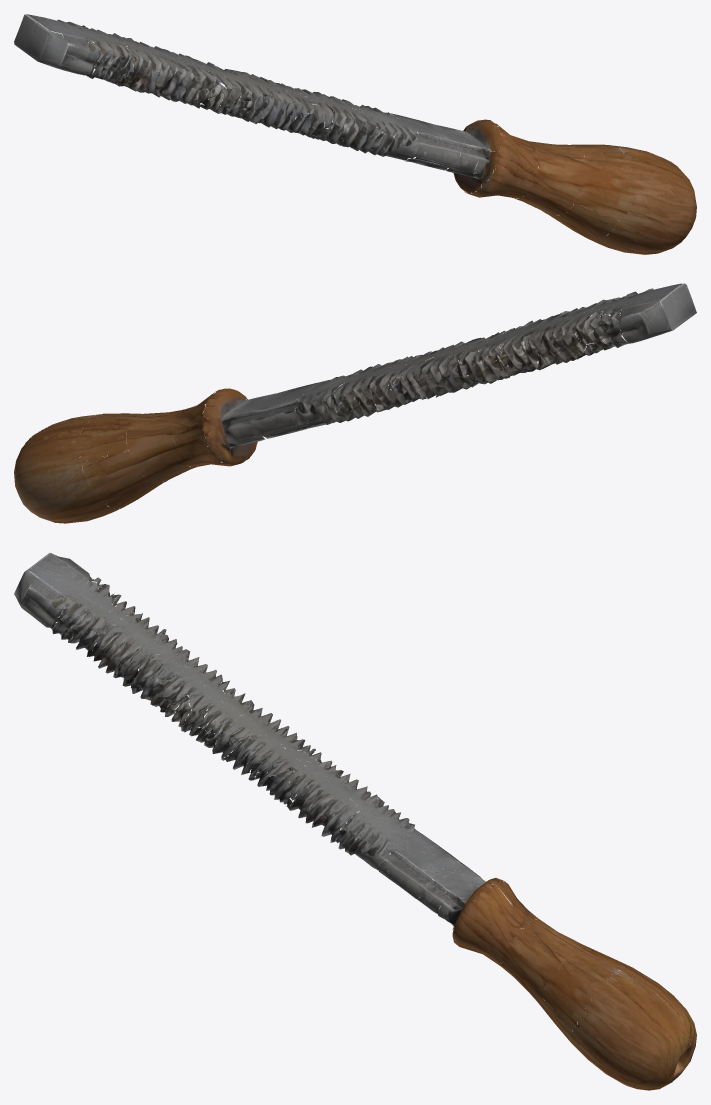
The model's file is hand_file.glb.
The picture shows the model from 3 angles, top to bottom: view 1: azimuth 30°, elevation 25°; view 2: azimuth 150°, elevation 25°; view 3: azimuth 330°, elevation 25°; orthographic projection.
Parts seen in each view (by area): view 1: tripo_node_b1c9037d-bd77-4da0-8036-eefdda859766; view 2: tripo_node_b1c9037d-bd77-4da0-8036-eefdda859766; view 3: tripo_node_b1c9037d-bd77-4da0-8036-eefdda859766.
Boxes of the visible parts, x1=… form: tripo_node_b1c9037d-bd77-4da0-8036-eefdda859766: x1=14, y1=14, x2=696, y2=254; tripo_node_b1c9037d-bd77-4da0-8036-eefdda859766: x1=14, y1=283, x2=696, y2=523; tripo_node_b1c9037d-bd77-4da0-8036-eefdda859766: x1=14, y1=553, x2=696, y2=1090.
Bounding box in the file's own units: 1 × 0.5424 × 0.1353.
1 material, 1 textured.
